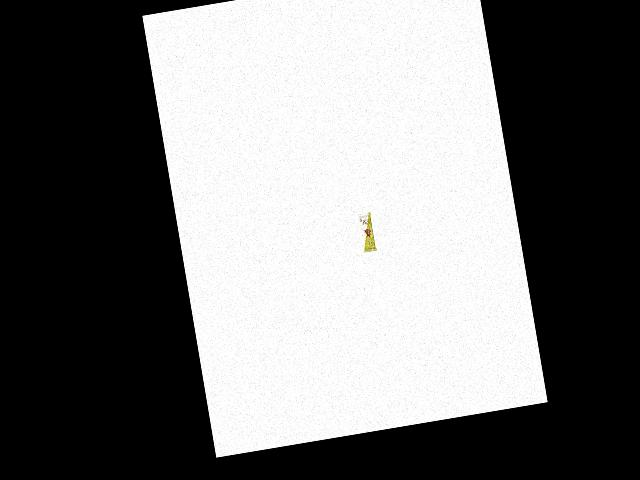chocolate: (354, 209, 380, 255)
